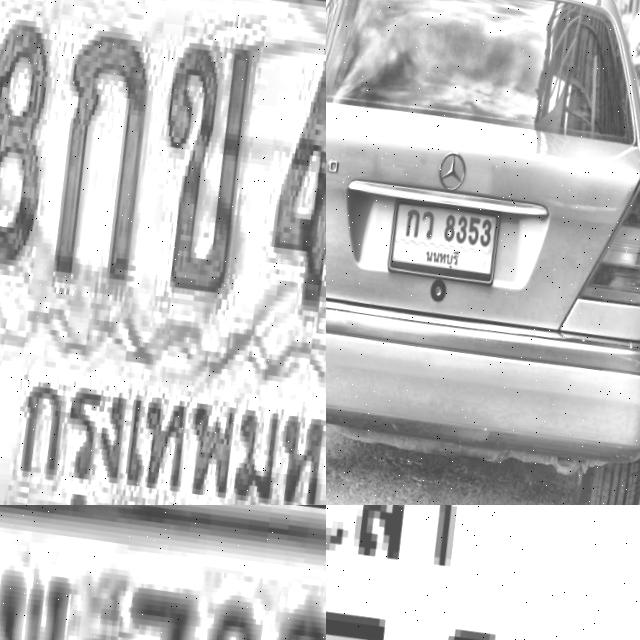license-plate: (0, 0, 326, 505), (0, 505, 326, 640), (326, 505, 640, 640), (374, 191, 510, 300)
